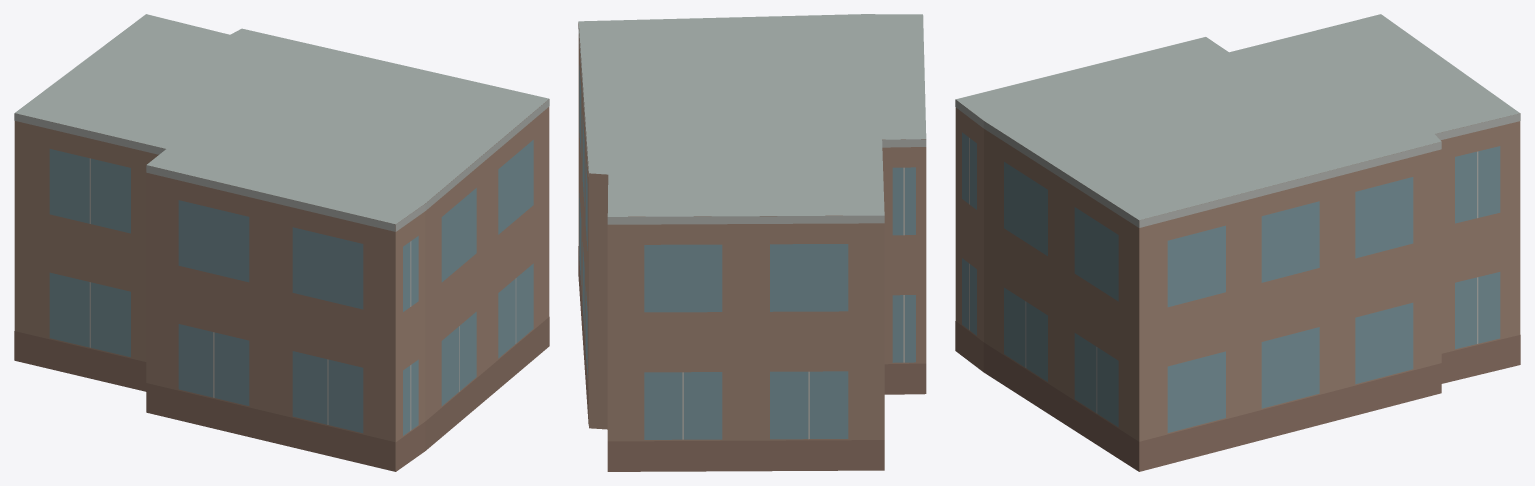
Rendered from survey-upis-32485638.glb.
3 views of the same model, side by side, from view 1: azimuth 30°, elevation 25°; view 2: azimuth 150°, elevation 25°; view 3: azimuth 270°, elevation 25° (orthographic). The views are drawn at different scales.
Parts seen in each view (by area): view 1: survey-upis-32485638.tmp; view 2: survey-upis-32485638.tmp; view 3: survey-upis-32485638.tmp.
Boxes of the visible parts, left/top/right/bottom form: survey-upis-32485638.tmp: left=14, top=14, right=549, bottom=471; survey-upis-32485638.tmp: left=578, top=14, right=926, bottom=471; survey-upis-32485638.tmp: left=955, top=14, right=1520, bottom=471.
Size of the model in its own units: 13.9 by 7.9 by 16.09.
